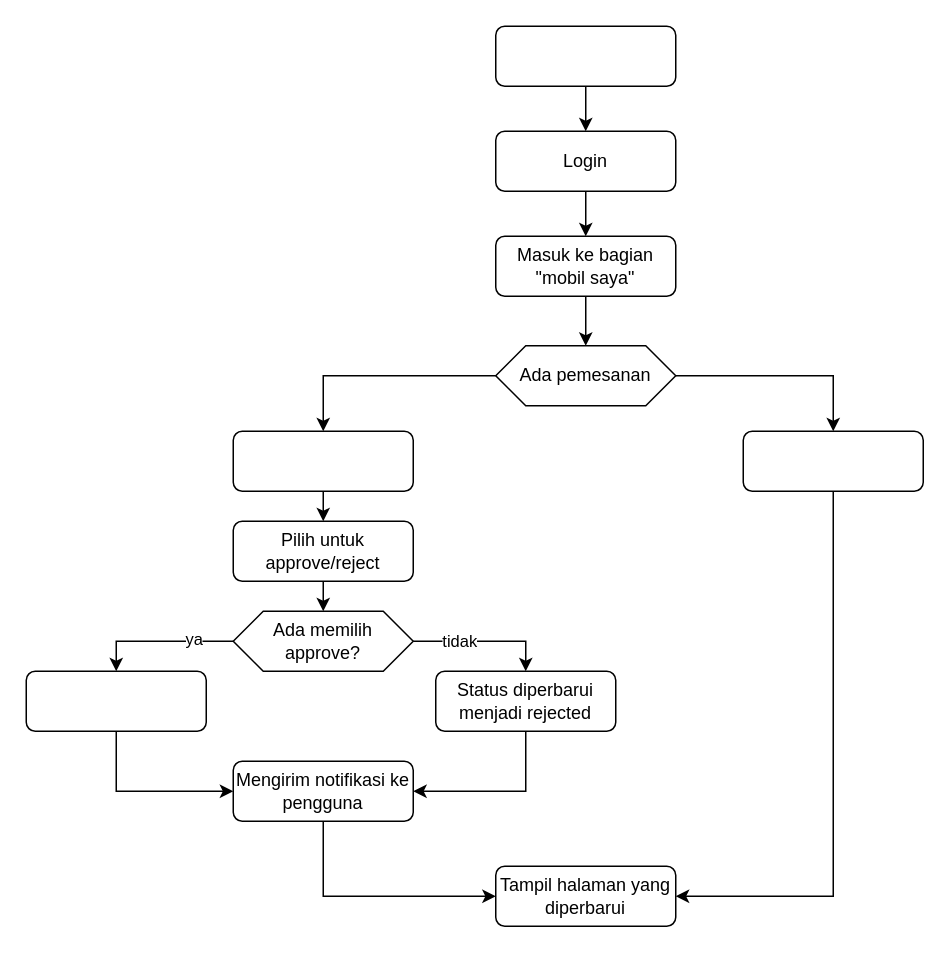
Some shapes in this 950 by 953 pixel diagram are drawn without their labels. Here are the shapes that lost their labels. From the top down, the centre of each, then its label:
(585,55): Mulai
(322,460): Pilih mobil yang dipesan dari daftar
(832,460): Tampil pesan "tidak ada"
(115,700): Status diperbarui menjadi approved
